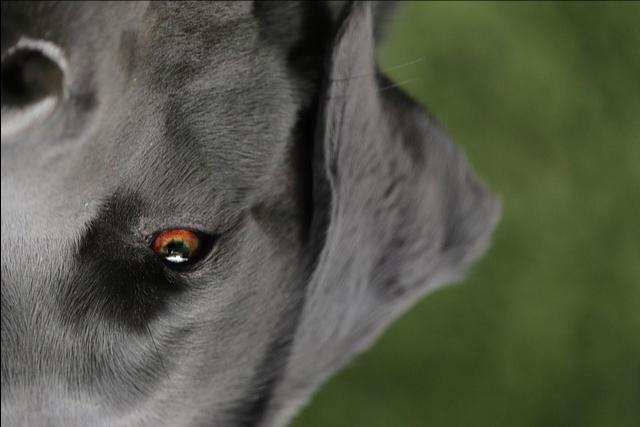Non_Gorille: (0, 0, 552, 422)
